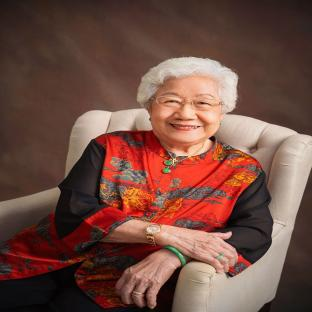Human: (0, 57, 273, 312)
